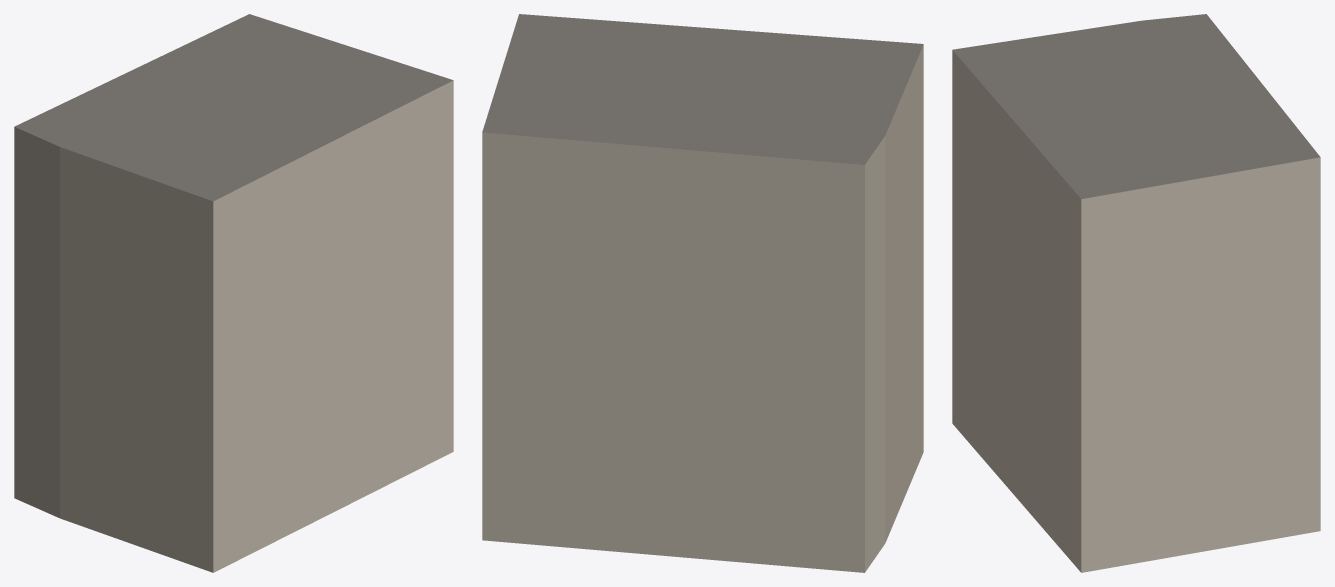
3 views of the same model, side by side, from view 1: azimuth 30°, elevation 25°; view 2: azimuth 150°, elevation 25°; view 3: azimuth 270°, elevation 25° (orthographic). The views are drawn at different scales.
Visible parts, largest first — view 1: HP-w1196773008; view 2: HP-w1196773008; view 3: HP-w1196773008.
Boxes of the visible parts, x1,y1,x2,y2 form: HP-w1196773008: [14, 14, 453, 572]; HP-w1196773008: [482, 14, 923, 572]; HP-w1196773008: [952, 14, 1320, 572].
Size of the model in its own units: 19.12 by 18 by 16.08.
